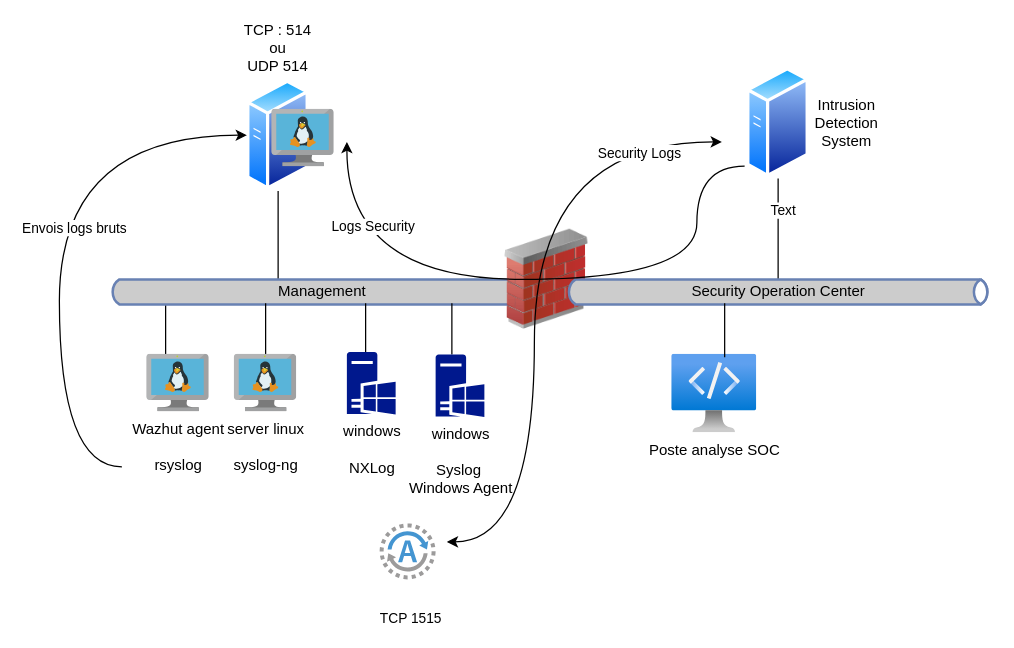
Image size: 1014x648. Some labels were removed from this diagram. The box of each missing label's shape, as (x1, y1, x2, y2) in pixels:
agent wazuh: (379, 523, 435, 579)
Graylog Server: (246, 79, 309, 190)
SIEM Wazhut: (746, 66, 809, 178)
